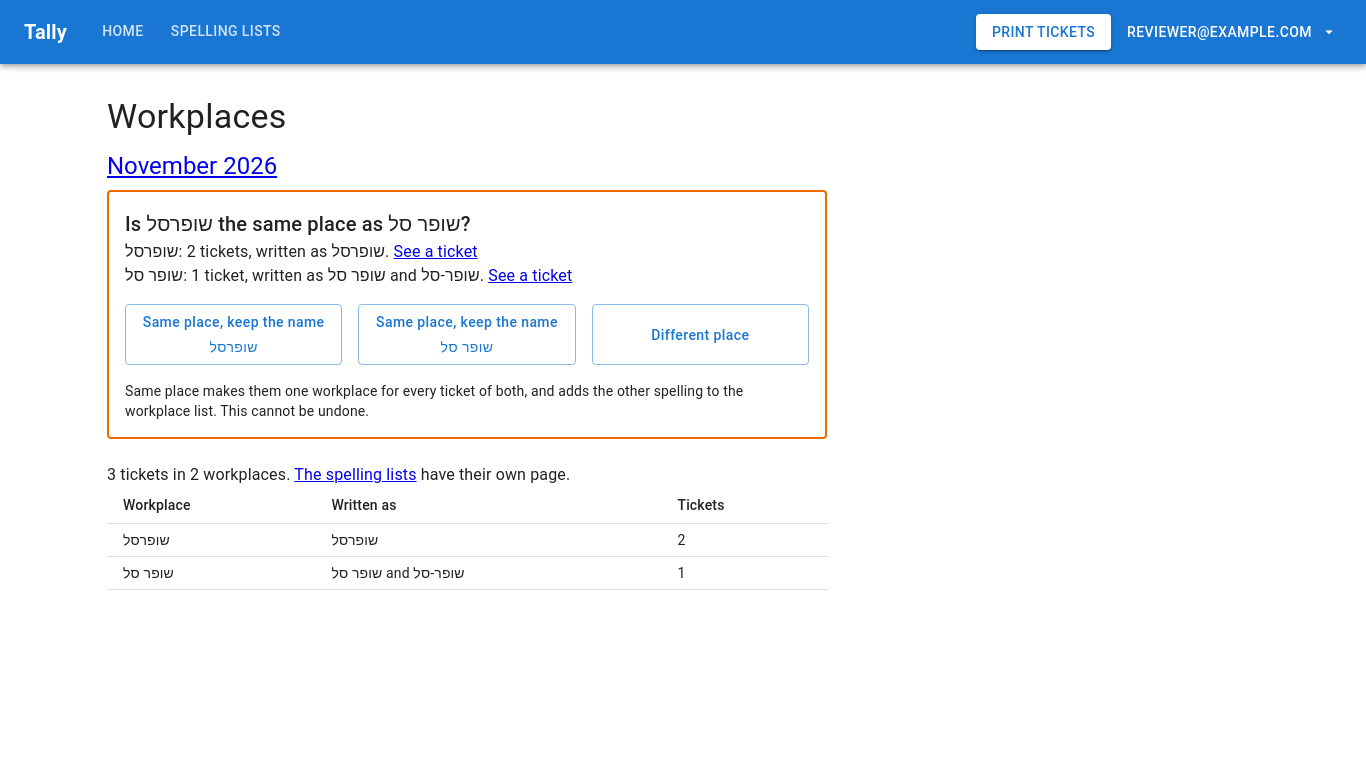
Test case: the Workplaces page › asks "Are you sure?" before "same place", and Cancel sends nothing
Later steps or results of the test are not shown.
Step 1. Click the button "Same place, keep the name שופר סל" → (467, 335), box [358,304,576,365]
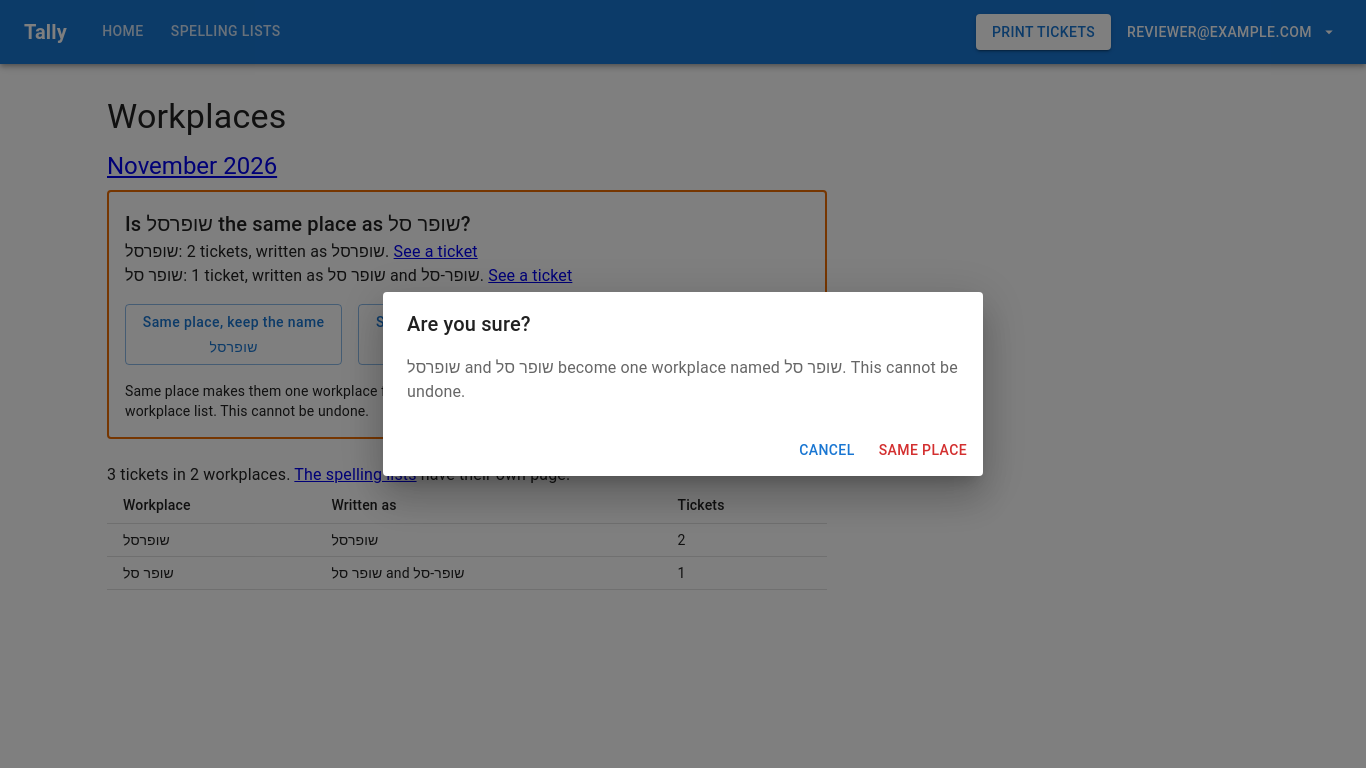
Expected: the text "This cannot be undone." is shown, [125,383,743,419]
Expected: the text "Are you sure?" is shown, [407,312,531,336]
